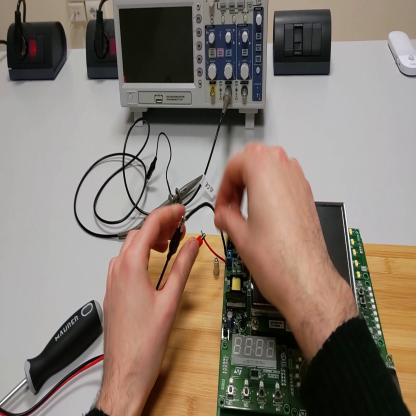hand: (214, 141, 334, 314), (103, 203, 199, 397)
low voltage board: (182, 205, 406, 412)
oscilloscope: (117, 1, 270, 129)
oscilloscope probe tip: (120, 173, 204, 240)
screwdriver-: (2, 298, 104, 407)
socket: (7, 17, 70, 83), (86, 17, 119, 81)
working area: (141, 231, 416, 415)
